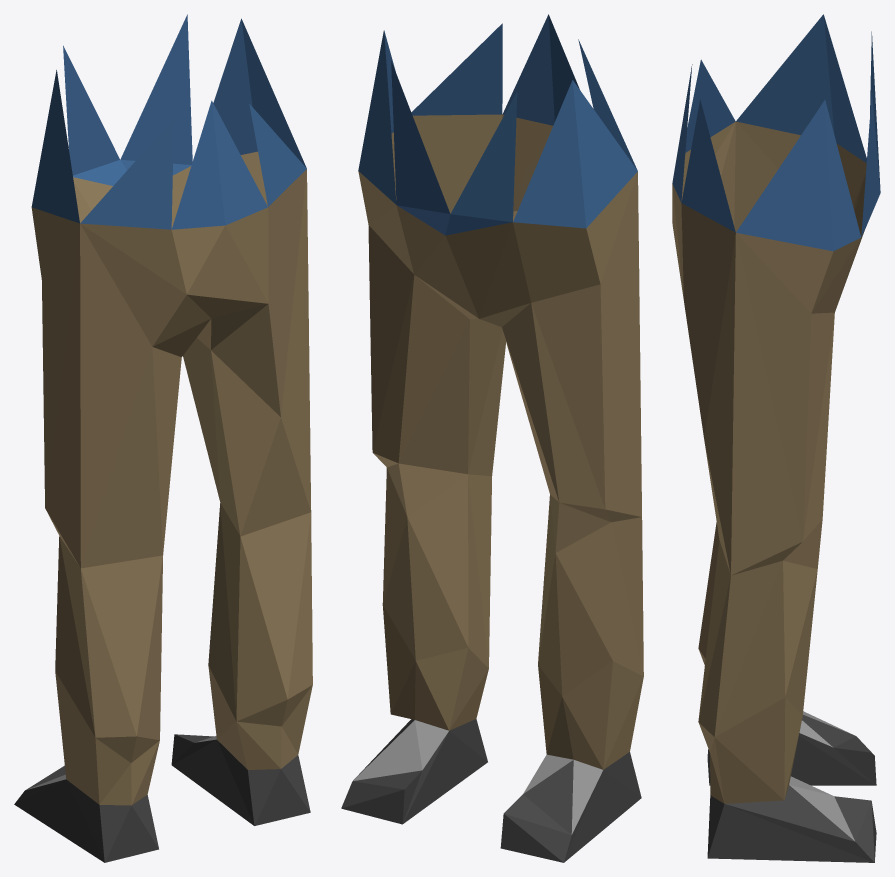
File: Legs.obj
3 views of the same model, side by side, from view 1: azimuth 30°, elevation 25°; view 2: azimuth 150°, elevation 25°; view 3: azimuth 270°, elevation 25° (orthographic).
Bounding box in the file's own units: 0.3542 × 1.11 × 0.2775.
Materials: 1 (1 with a texture image).
